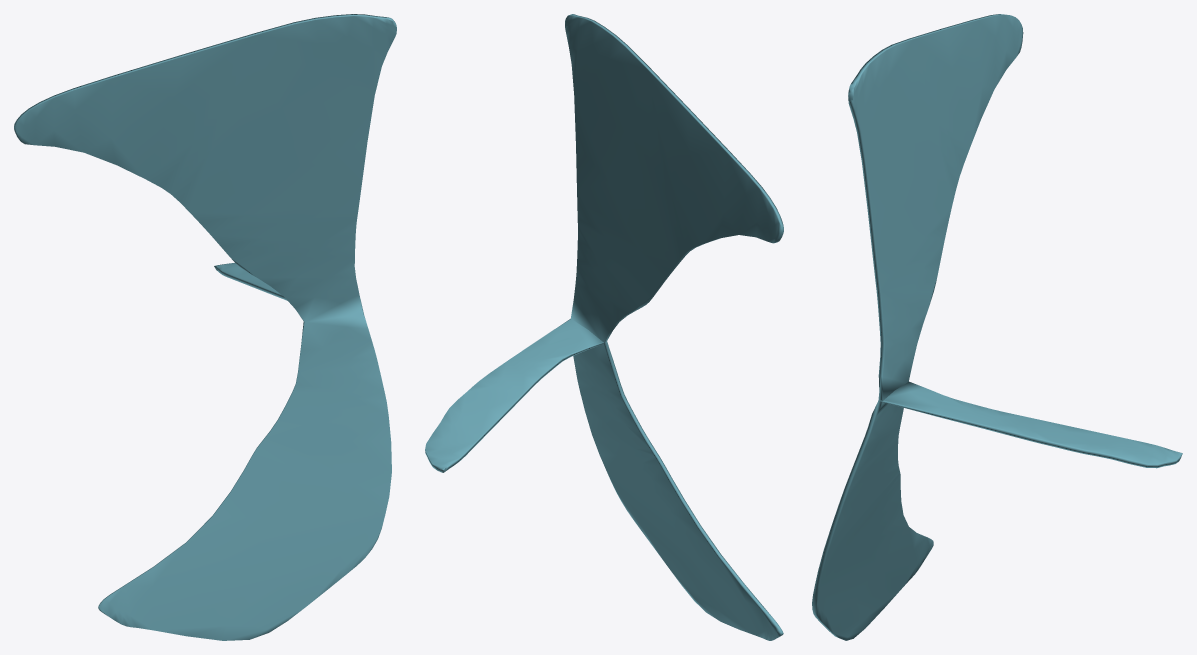
3 views of the same model, side by side, from view 1: azimuth 30°, elevation 25°; view 2: azimuth 150°, elevation 25°; view 3: azimuth 270°, elevation 25° (orthographic). The views are drawn at different scales.
Parts seen in each view (by area): view 1: 右侧三放射软骨; view 2: 右侧三放射软骨; view 3: 右侧三放射软骨.
Part boxes in pixels (bbox=[...]): 右侧三放射软骨: bbox=[14, 14, 396, 640]; 右侧三放射软骨: bbox=[425, 14, 783, 640]; 右侧三放射软骨: bbox=[812, 14, 1182, 640].
Size of the model in its own units: 0.0557 by 0.0999 by 0.053.
